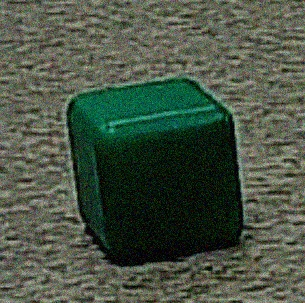green_cube: (57, 69, 267, 272)
